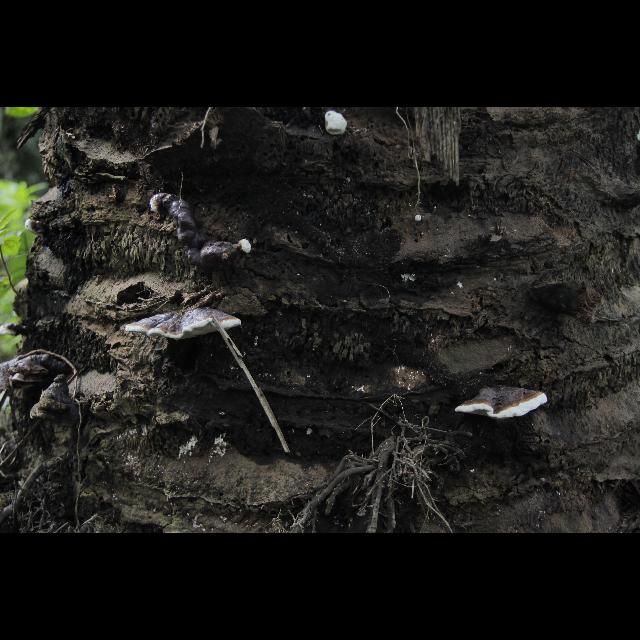ganoderma: (167, 195, 240, 272), (127, 307, 244, 343), (458, 388, 550, 423), (2, 355, 57, 392), (1, 325, 29, 337)
primordium: (324, 110, 349, 136), (26, 219, 47, 236), (151, 195, 166, 217), (240, 239, 252, 255), (415, 216, 424, 225)
